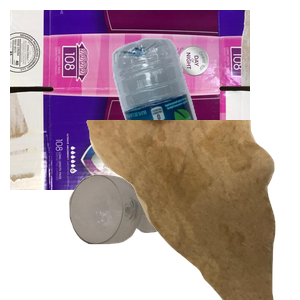cardboard: (10, 10, 250, 190)
glass: (67, 172, 229, 300)
plastic: (110, 36, 300, 216)
trash: (84, 120, 300, 300)
